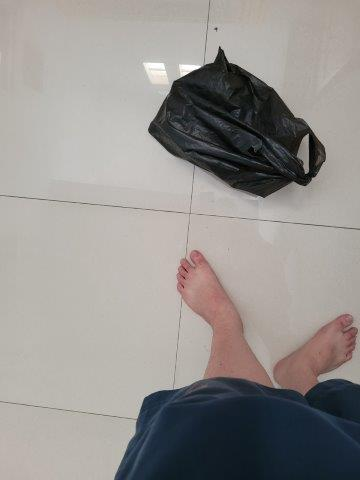plastik: (149, 48, 325, 198)
